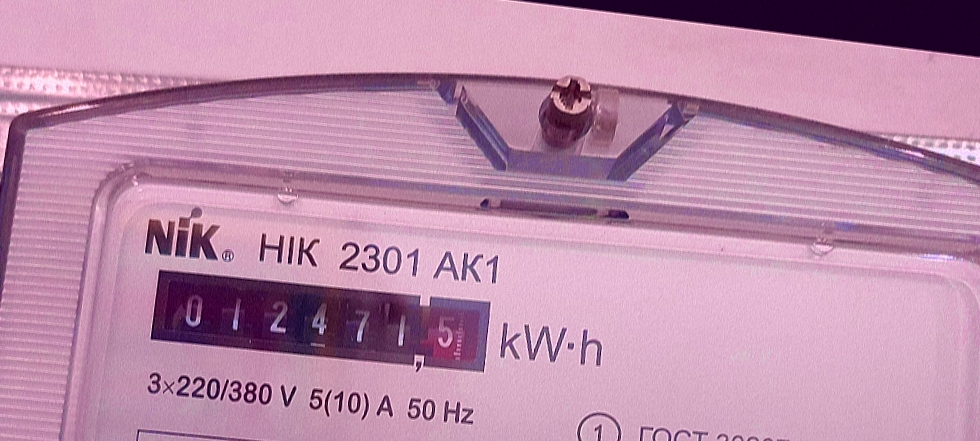0: (178, 291, 206, 330)
1: (227, 297, 243, 333), (392, 312, 407, 349)
2: (266, 298, 291, 337)
4: (307, 300, 330, 339)
5: (432, 312, 458, 352)
7: (346, 306, 371, 347)
screen: (137, 252, 504, 392)
